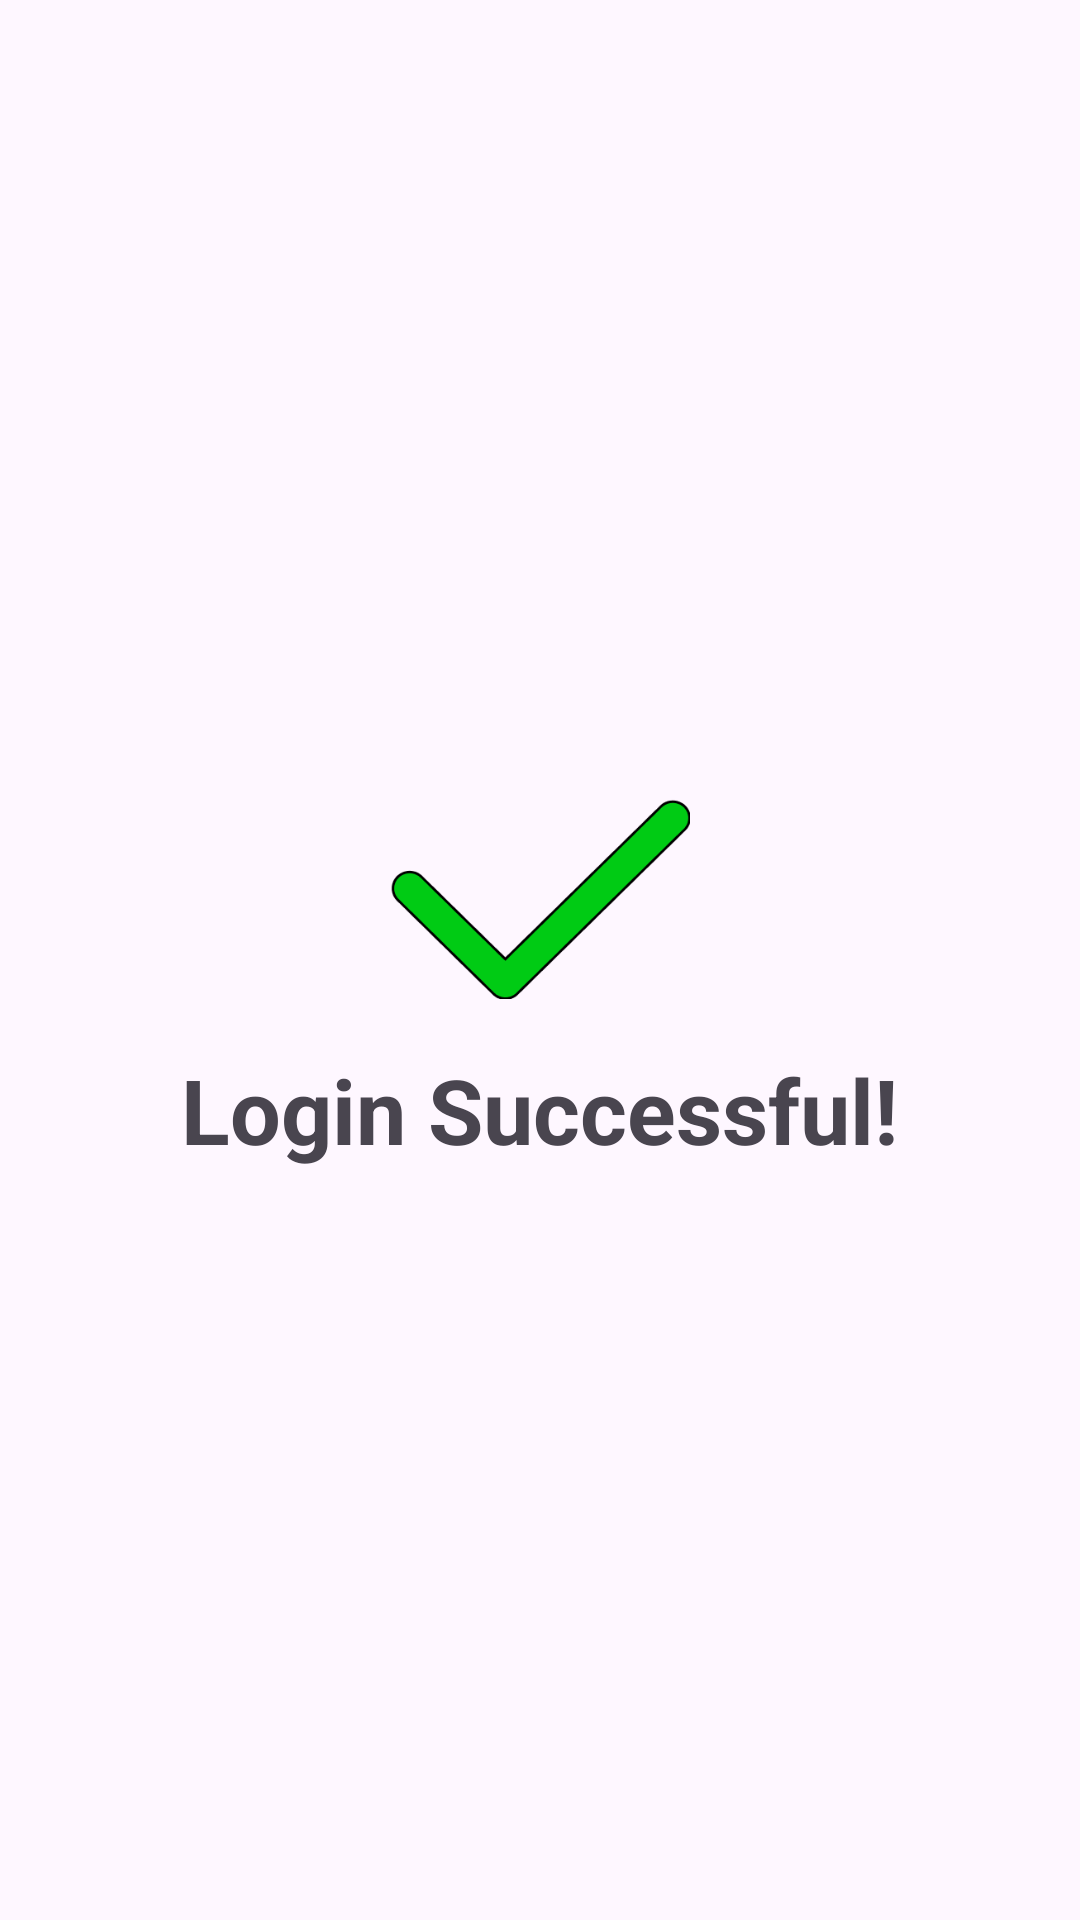

Screen size 1080×1920. Icon name, then its center in pixels as (x,y):
right tik: (540,899)
